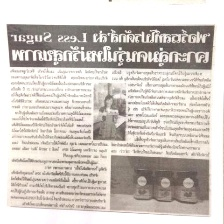news_paper: (1, 17, 218, 219)
